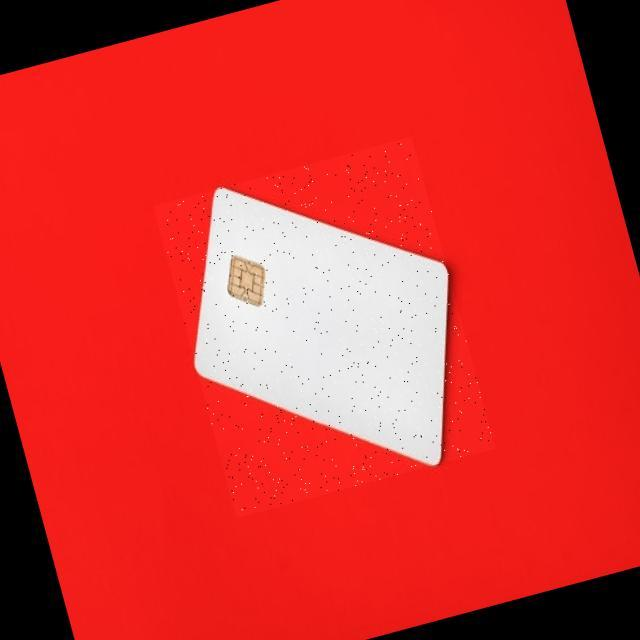payment_card: (192, 183, 450, 467)
